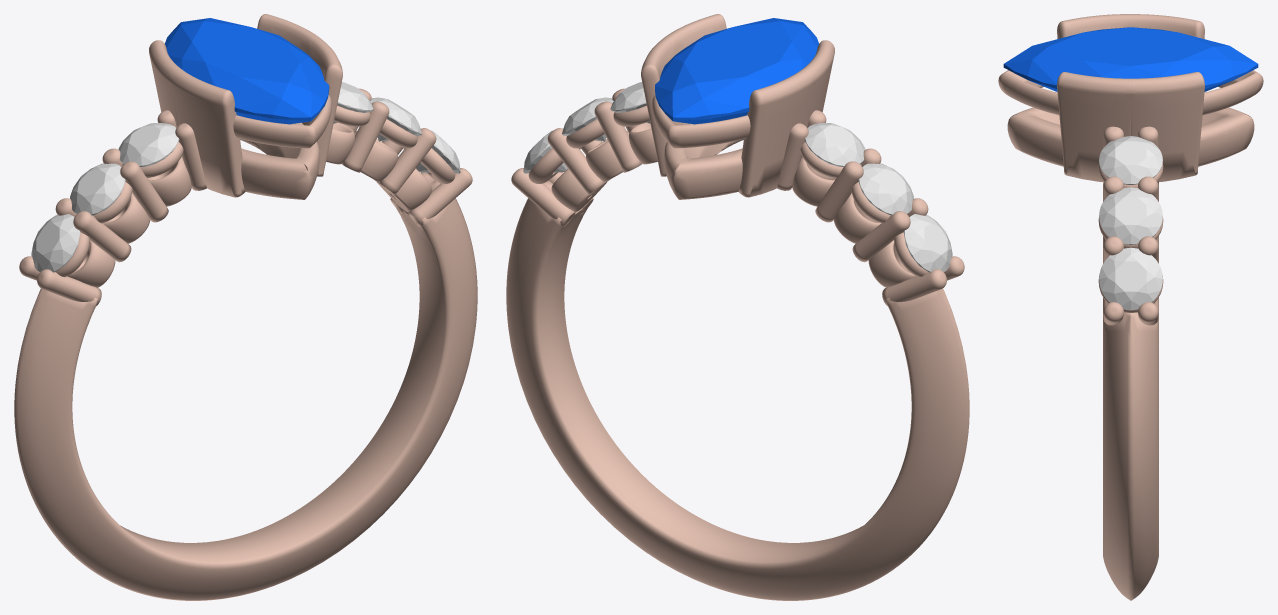
The model's file is bluesapphire-marquise-rosegold-halfmoonbezel-knifeedge-7stone.glb.
3 renders of one model, left to right at view 1: azimuth 30°, elevation 25°; view 2: azimuth 150°, elevation 25°; view 3: azimuth 270°, elevation 25°, orthographic. The views are drawn at different scales.
Visible parts, largest first — view 1: metal.003, stone.001, dia.002, dia.015, dia.016, dia.018, dia.019, dia.017; view 2: metal.003, stone.001, dia.002, dia.015, dia.016, dia.018, dia.019, dia.017; view 3: metal.003, stone.001, dia.017, dia.018, dia.019.
Boxes of the visible parts, x1=… form: metal.003: x1=14, y1=14, x2=477, y2=600; stone.001: x1=165, y1=18, x2=329, y2=124; dia.002: x1=31, y1=214, x2=80, y2=272; dia.015: x1=70, y1=163, x2=125, y2=215; dia.016: x1=118, y1=123, x2=179, y2=166; dia.018: x1=370, y1=97, x2=421, y2=141; dia.019: x1=333, y1=82, x2=373, y2=123; dia.017: x1=416, y1=128, x2=460, y2=173; metal.003: x1=506, y1=14, x2=969, y2=600; stone.001: x1=655, y1=18, x2=818, y2=124; dia.002: x1=903, y1=214, x2=952, y2=272; dia.015: x1=858, y1=163, x2=913, y2=215; dia.016: x1=804, y1=123, x2=865, y2=166; dia.018: x1=562, y1=97, x2=613, y2=141; dia.019: x1=610, y1=82, x2=650, y2=123; dia.017: x1=523, y1=128, x2=567, y2=173; metal.003: x1=998, y1=14, x2=1263, y2=600; stone.001: x1=1003, y1=27, x2=1258, y2=91; dia.017: x1=1099, y1=247, x2=1162, y2=310; dia.018: x1=1099, y1=187, x2=1162, y2=244; dia.019: x1=1099, y1=136, x2=1162, y2=184.
Size of the model in its own units: 20.5 by 22.93 by 10.4.
